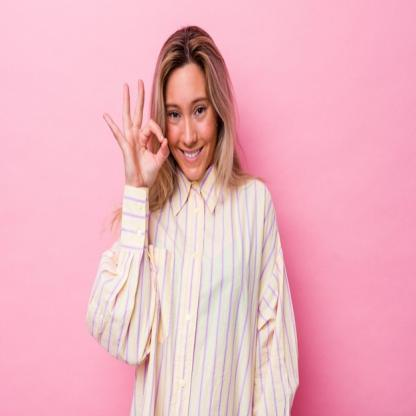ok: (101, 75, 170, 190)
